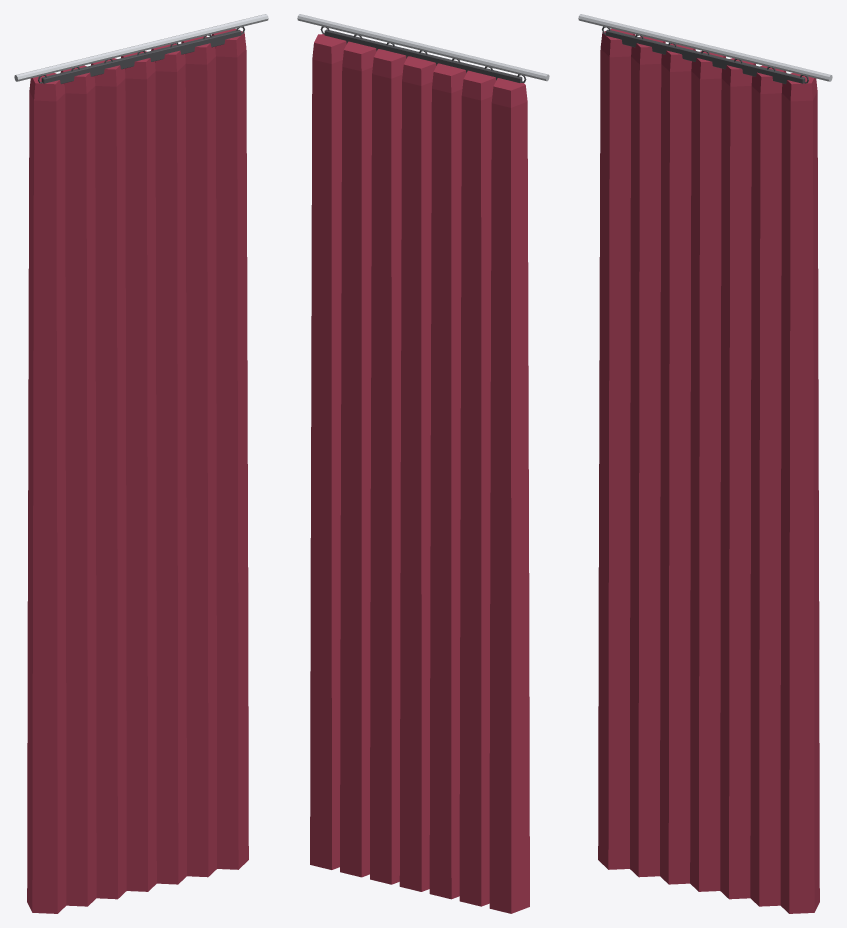
File: theatre-stage-and-backstage-stage-leg-drape-a99e970d__35879.glb
3 views of the same model, side by side, from view 1: azimuth 30°, elevation 25°; view 2: azimuth 150°, elevation 25°; view 3: azimuth 330°, elevation 25° (orthographic).
Visible parts, largest first — view 1: stage-leg-drape; view 2: stage-leg-drape; view 3: stage-leg-drape.
Part boxes in pixels (x1=…): stage-leg-drape: x1=14, y1=14, x2=268, y2=913; stage-leg-drape: x1=297, y1=14, x2=549, y2=913; stage-leg-drape: x1=578, y1=14, x2=832, y2=913.
Size of the model in its own units: 1.9 by 6.1 by 0.2564.
